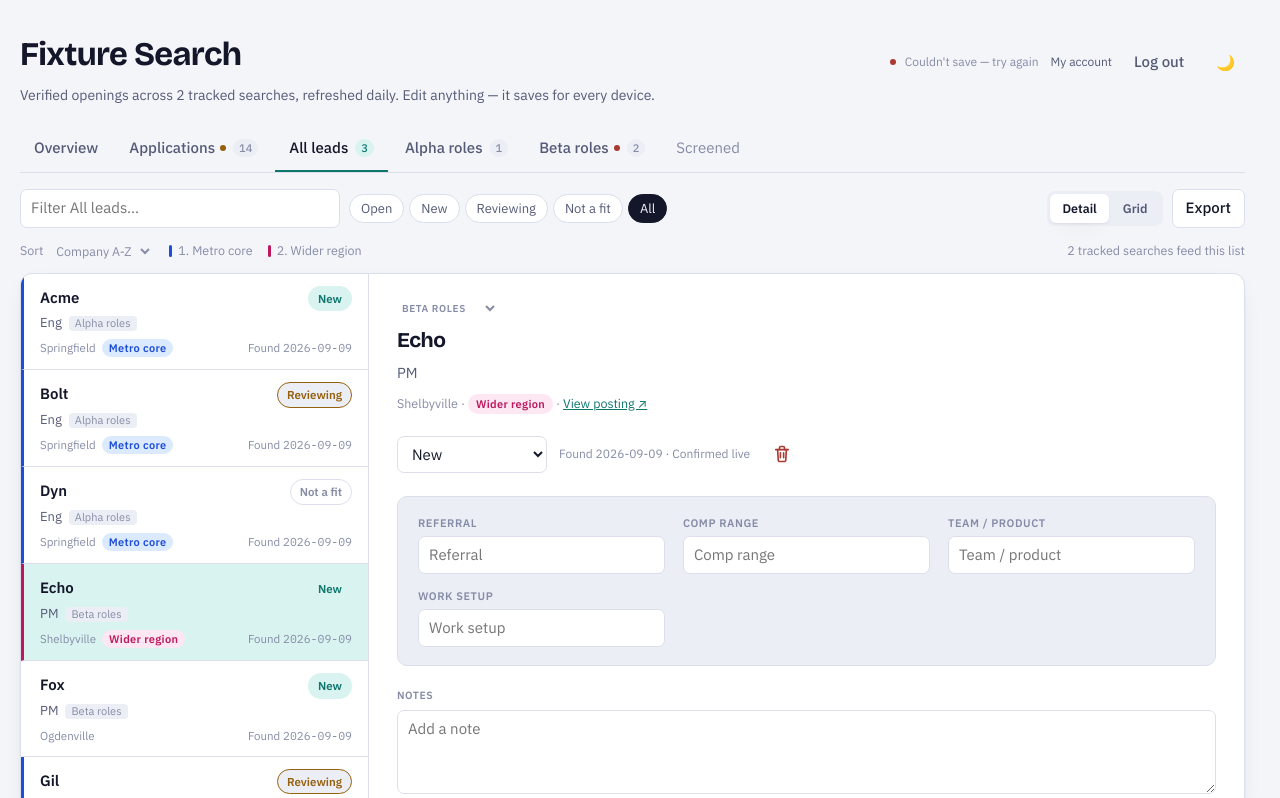
marking a lead so it leaves the chip on screen › says the tab a lead set to Applied went to
Select "Applied" in the dropdown named "Status" at (472, 454), box [397,436,547,473]
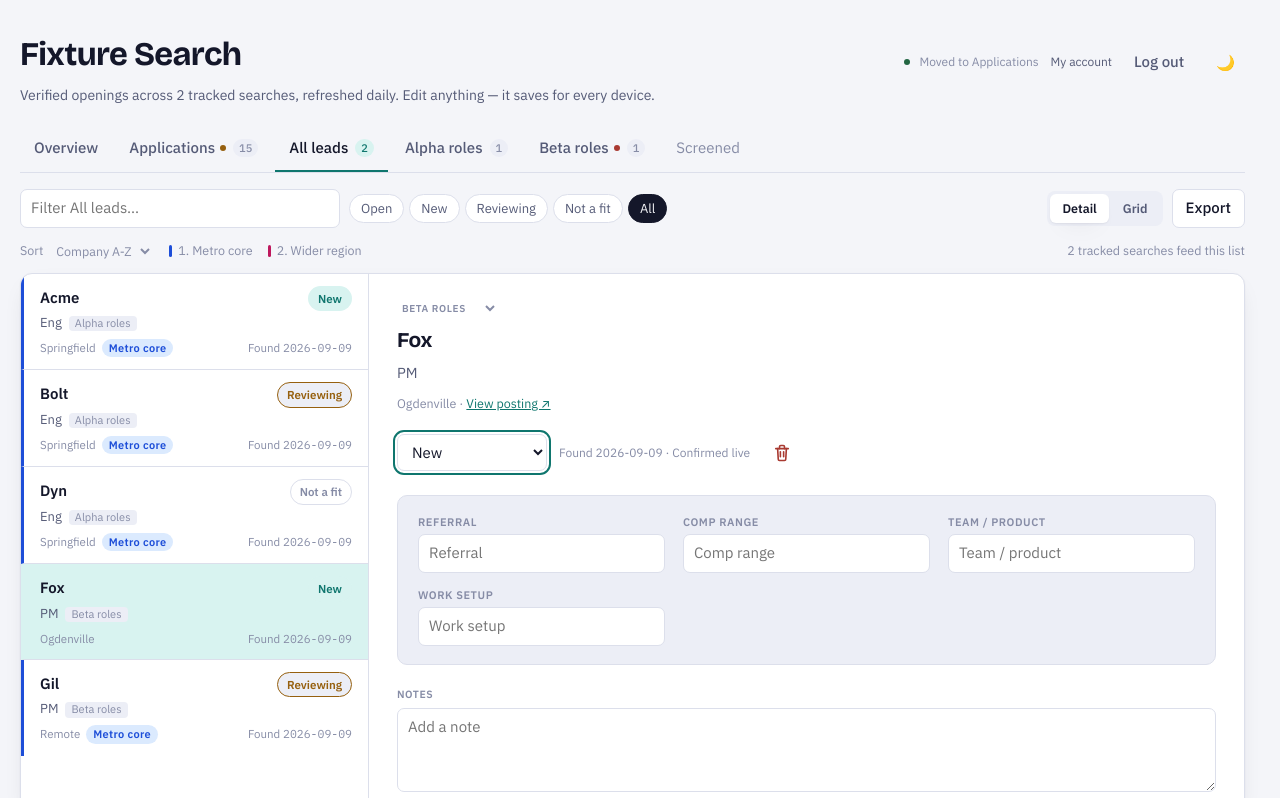
Expected: the text "Fox" is shown, [40,578,65,597]
Expected: the message reads "Moved to Applications", [919,54,1039,69]
Expected: the button "Echo" no longer shows "Echo"
